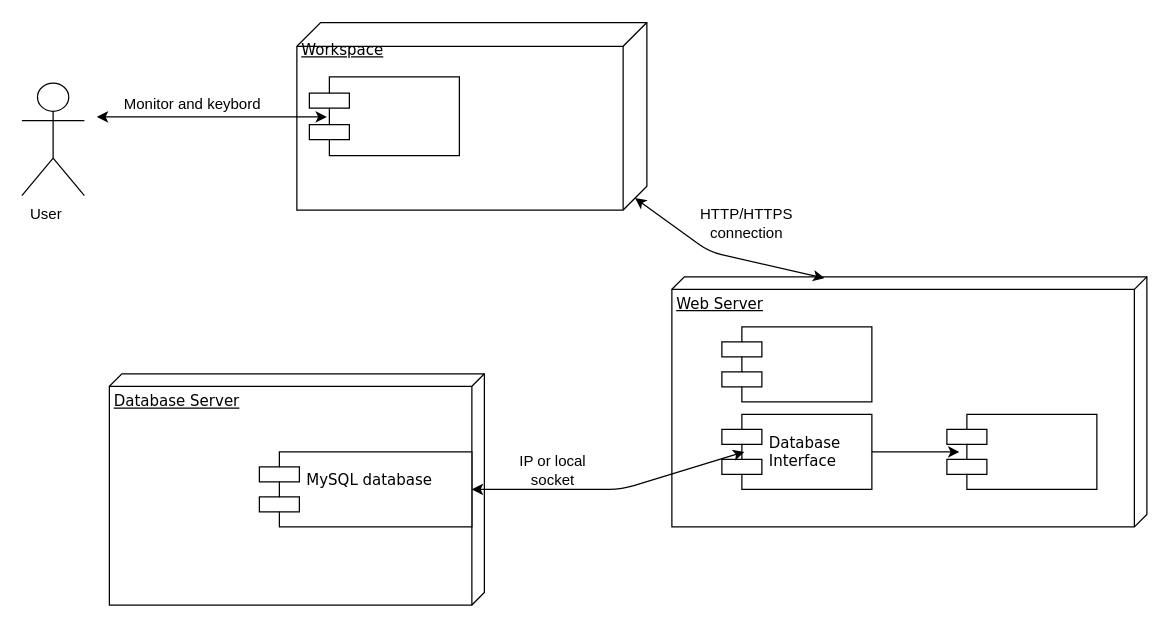
The diagram is 1169 pixels wide and 626 high, and some of its shapes have lost their labels. The centre of each missing label's shape, as x and y in pixels:
"Log file" goes at point 1021,451.
"Presantation Layer" goes at point 796,364.
"Web browser" goes at point 383,116.
